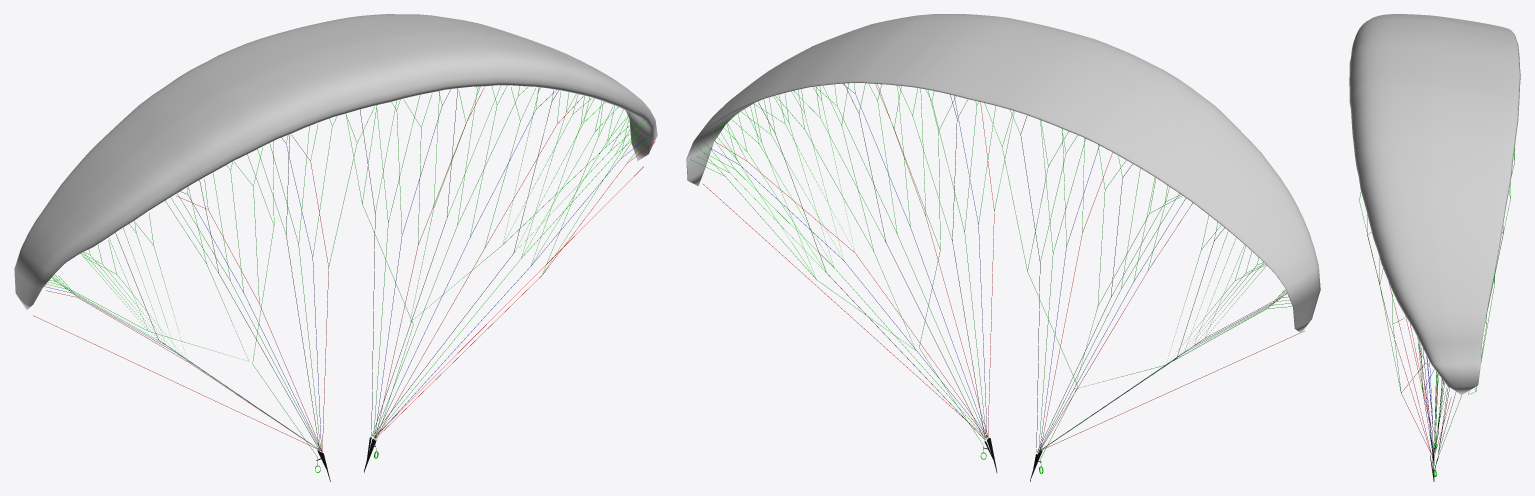
The model's file is gliderLines.obj.
The picture shows the model from 3 angles, left to right: view 1: azimuth 30°, elevation 25°; view 2: azimuth 150°, elevation 25°; view 3: azimuth 270°, elevation 25°; orthographic projection. The views are drawn at different scales.
Parts seen in each view (by area): view 1: ASP4_Mesh, Lines_Mesh.003; view 2: ASP4_Mesh, Lines_Mesh.003; view 3: ASP4_Mesh, Lines_Mesh.003.
Boxes of the visible parts, x1,y1,x2,y2 form: ASP4_Mesh: (14, 14, 657, 309); Lines_Mesh.003: (33, 85, 654, 472); ASP4_Mesh: (686, 14, 1320, 332); Lines_Mesh.003: (690, 83, 1304, 473); ASP4_Mesh: (1349, 14, 1520, 394); Lines_Mesh.003: (1359, 148, 1514, 476).
Bounding box in the file's own units: 7.75 × 5.15 × 1.94.
